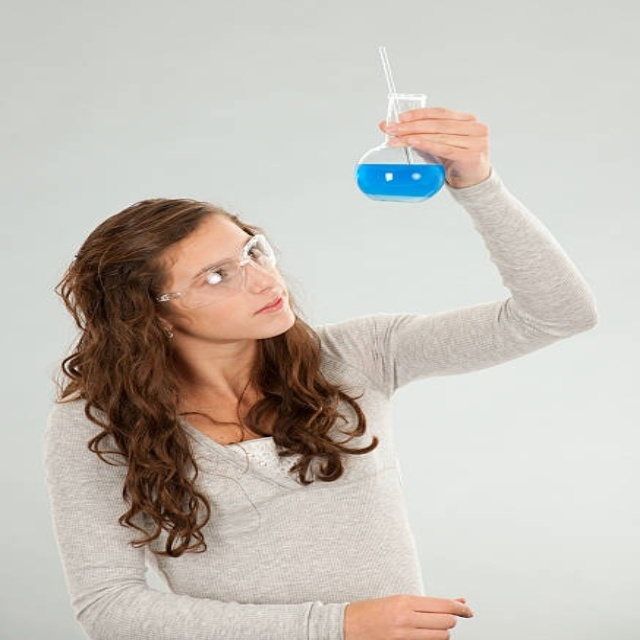Gafas: (155, 235, 278, 309)
Sin_guantes: (380, 105, 492, 188), (349, 594, 473, 640)
Sin_mascara: (231, 285, 297, 337)
